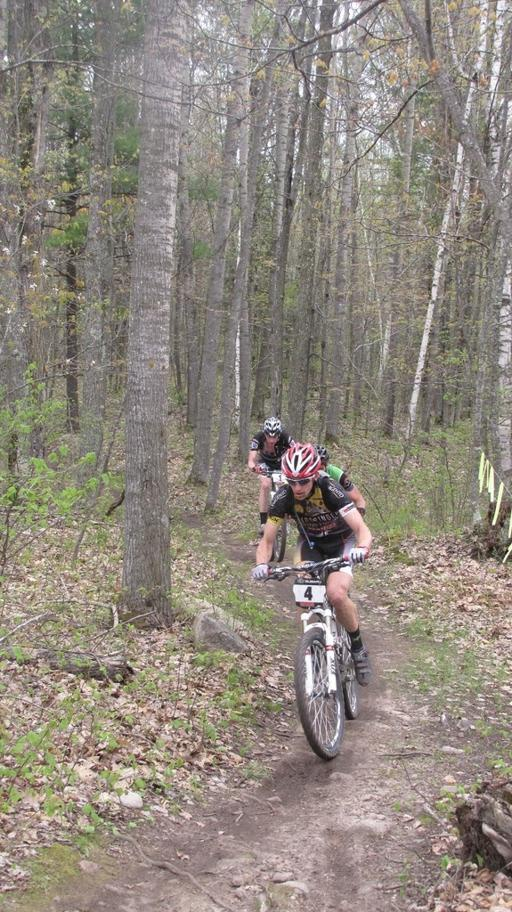non-vehicle: (250, 553, 363, 759), (252, 468, 290, 562)
